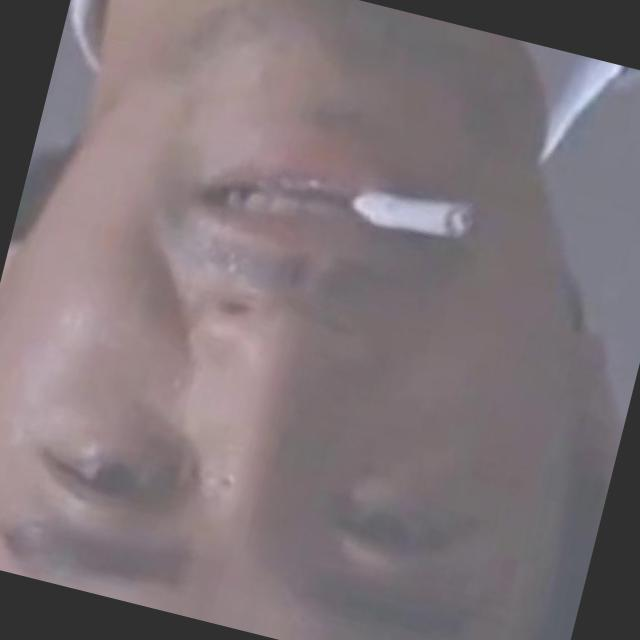cigarette: (338, 172, 482, 255)
